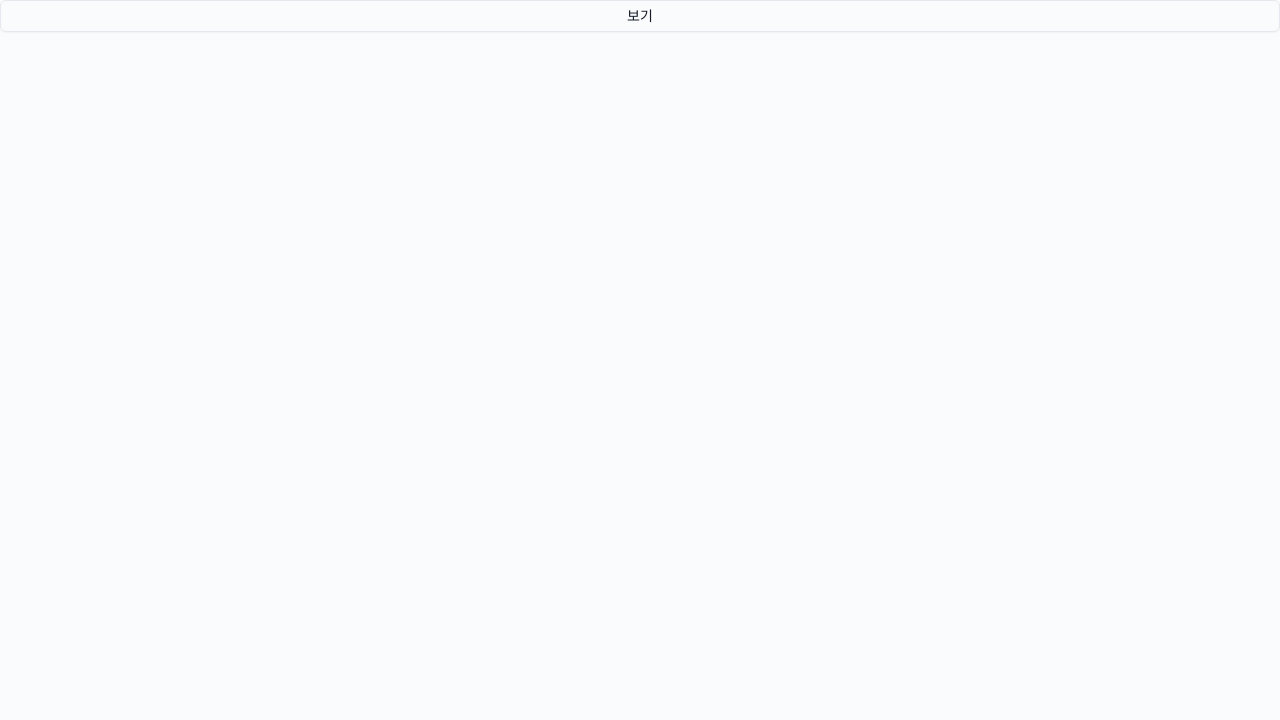
Test: 검토 단추 › 용역사는 보기로 열어 보기만 하고 승인·반려 단추는 없다
Click the button "보기".
click(640, 16)  # box 0,0 -> 1279,32
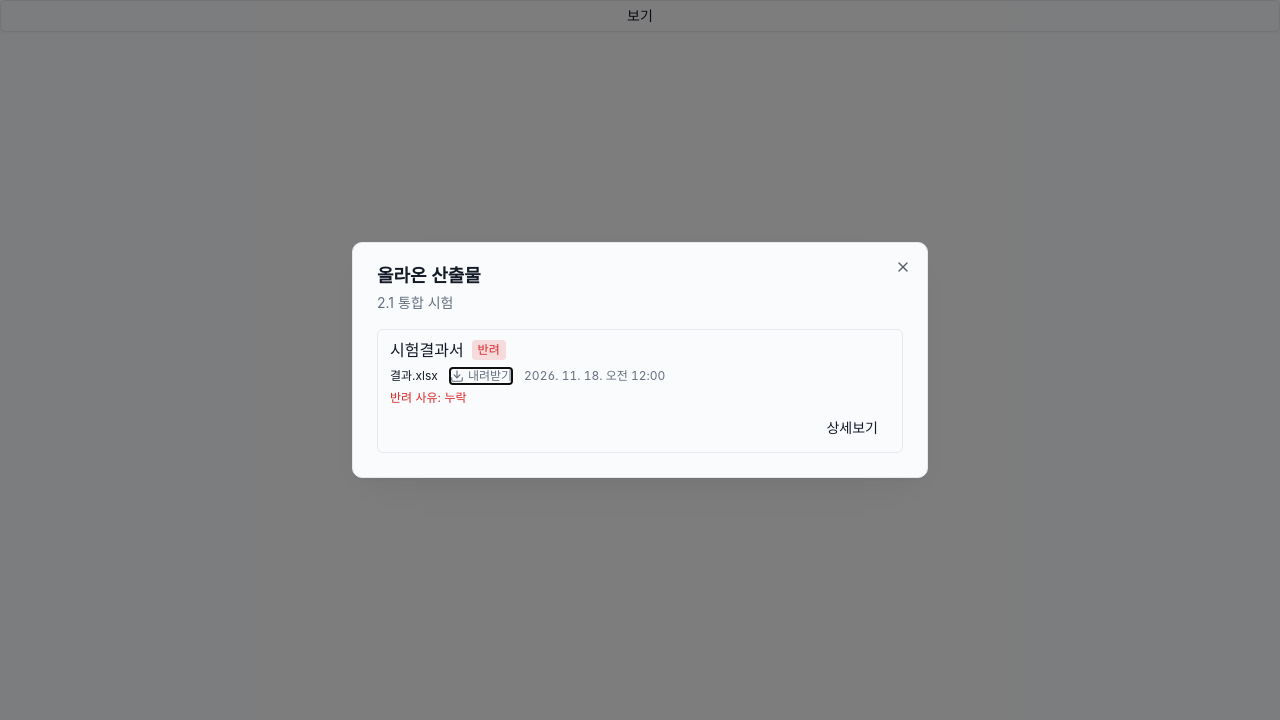
Expected: the button "상세보기" is shown, 814,412 -> 890,444
